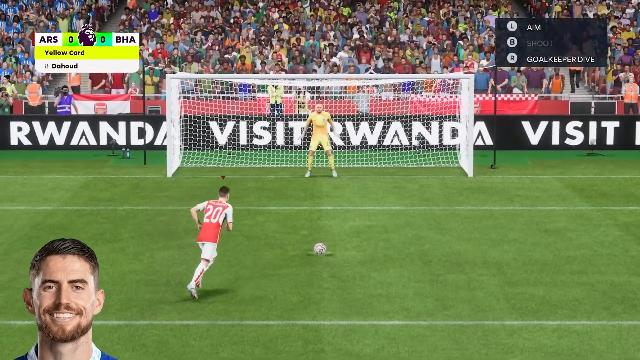circle: (309, 251, 333, 255)
football: (314, 244, 328, 254)
goal-bottom-left: (172, 133, 276, 177)
goal-bottom-right: (366, 133, 469, 177)
goal-middle-down: (280, 132, 364, 178)
goal-middle-up: (276, 82, 364, 130)
goal-top-left: (172, 80, 276, 132)
goal-top-right: (367, 81, 467, 131)
goalkeeper: (300, 103, 348, 178)
player: (187, 186, 236, 302)
